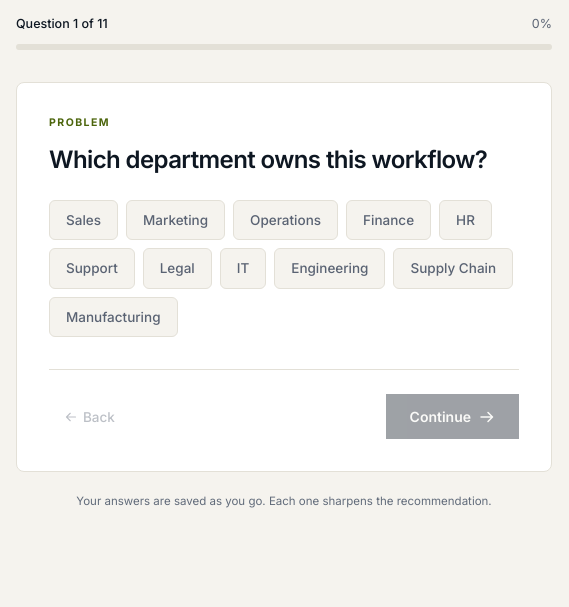
Test: Standalone assessment flow › should update the progress label and bar as questions advance
Expected: the text with test id "assessment-question-label" reads "Question 1 of 11", [16,16,108,31]
Step 1. Click the button "Sales" → (84, 220), box [49,200,118,240]
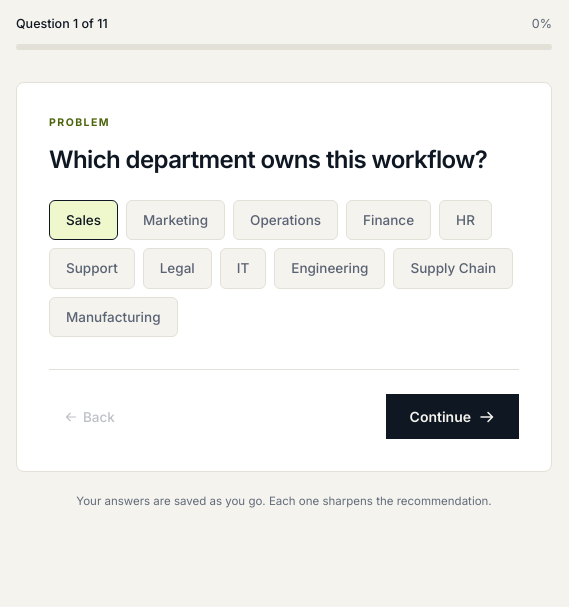
Step 2. Click the button "Continue" → (452, 417), box [386,394,519,439]
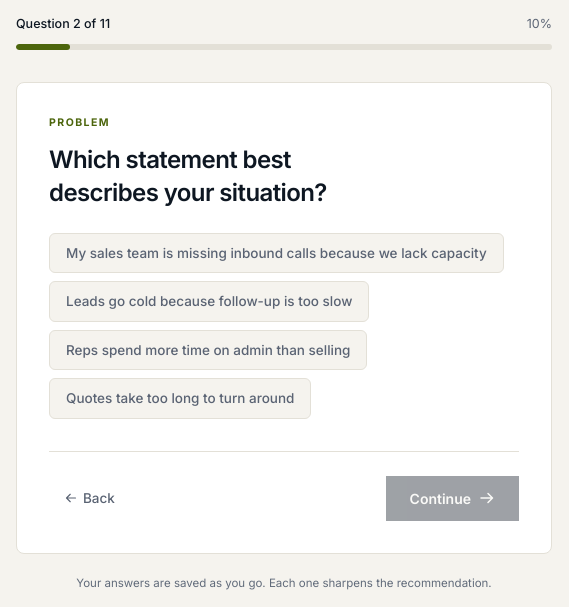
Expected: the text with test id "assessment-question-label" reads "Question 2 of 11", [16,16,110,31]
